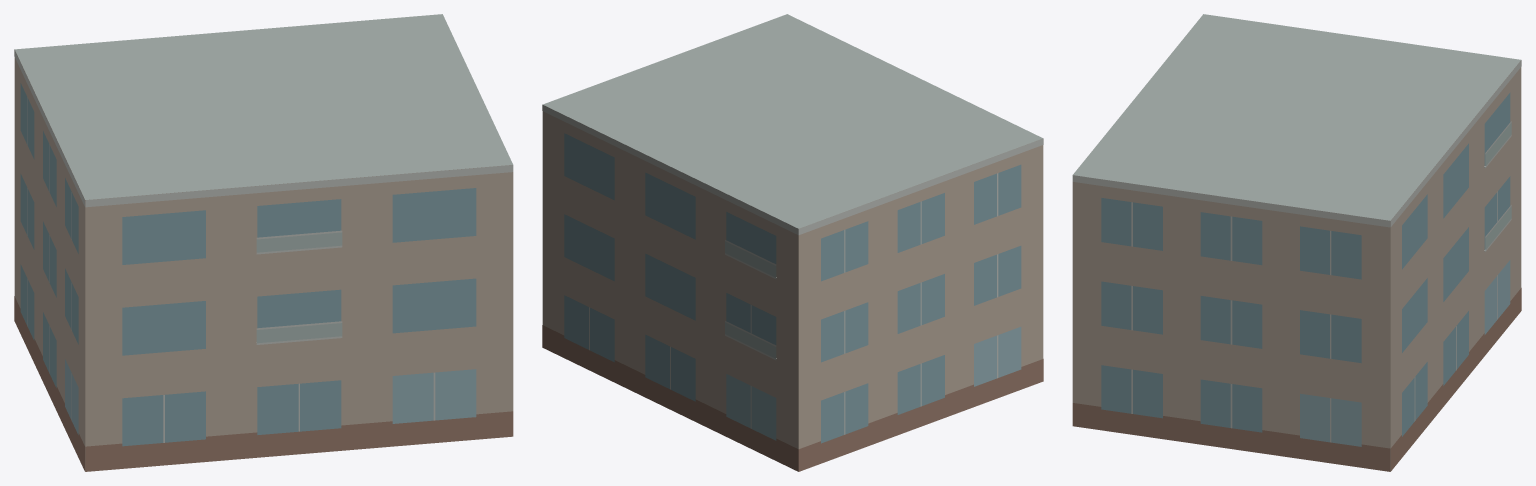
Rendered from survey-upis-32808104.glb.
3 renders of one model, left to right at view 1: azimuth 30°, elevation 25°; view 2: azimuth 150°, elevation 25°; view 3: azimuth 270°, elevation 25°, orthographic. The views are drawn at different scales.
Visible parts, largest first — view 1: survey-upis-32808104.tmp; view 2: survey-upis-32808104.tmp; view 3: survey-upis-32808104.tmp.
Boxes of the visible parts, box(x1,y1,x2,y2) form: survey-upis-32808104.tmp: box(14, 14, 513, 471); survey-upis-32808104.tmp: box(542, 14, 1043, 471); survey-upis-32808104.tmp: box(1072, 14, 1521, 471).
Size of the model in its own units: 16.18 by 9.15 by 14.84.
